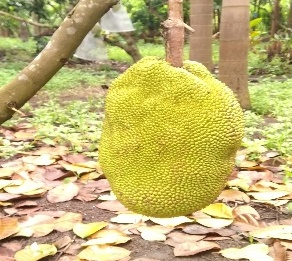Mit: (100, 56, 244, 219)
